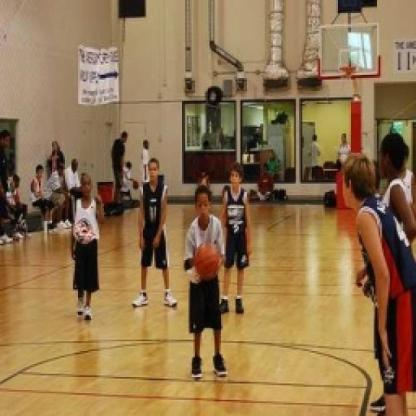basketball: (192, 240, 227, 283)
